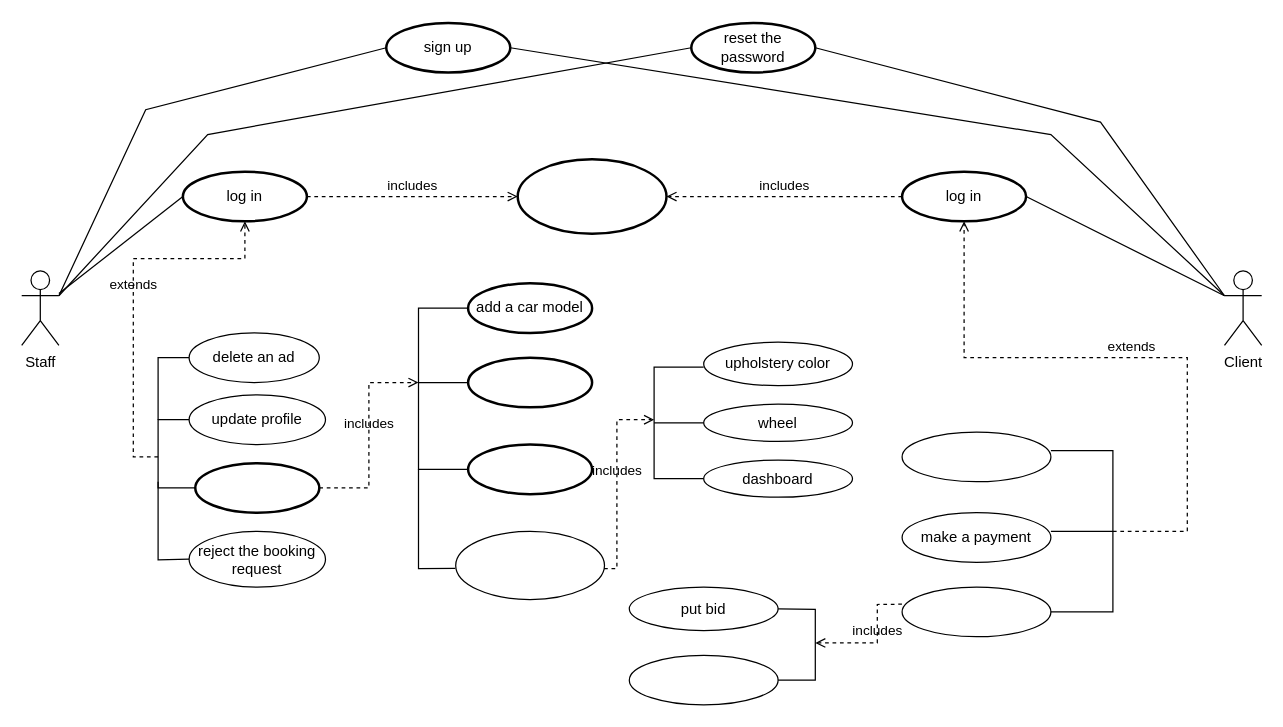
The diagram is 1283 pixels wide and 727 high, and some of its shapes have lost their labels. Here are the shapes that lost their labels. From the top down, the box of each, then its label:
(516, 157, 667, 234): check password & login
(466, 356, 593, 408): add the year of release
(466, 443, 593, 495): add mileage
(901, 431, 1051, 482): search for a car ad
(193, 461, 320, 513): create an ad
(454, 530, 604, 600): add a description of the car interior
(901, 586, 1051, 637): book a car
(628, 654, 778, 705): select a date
